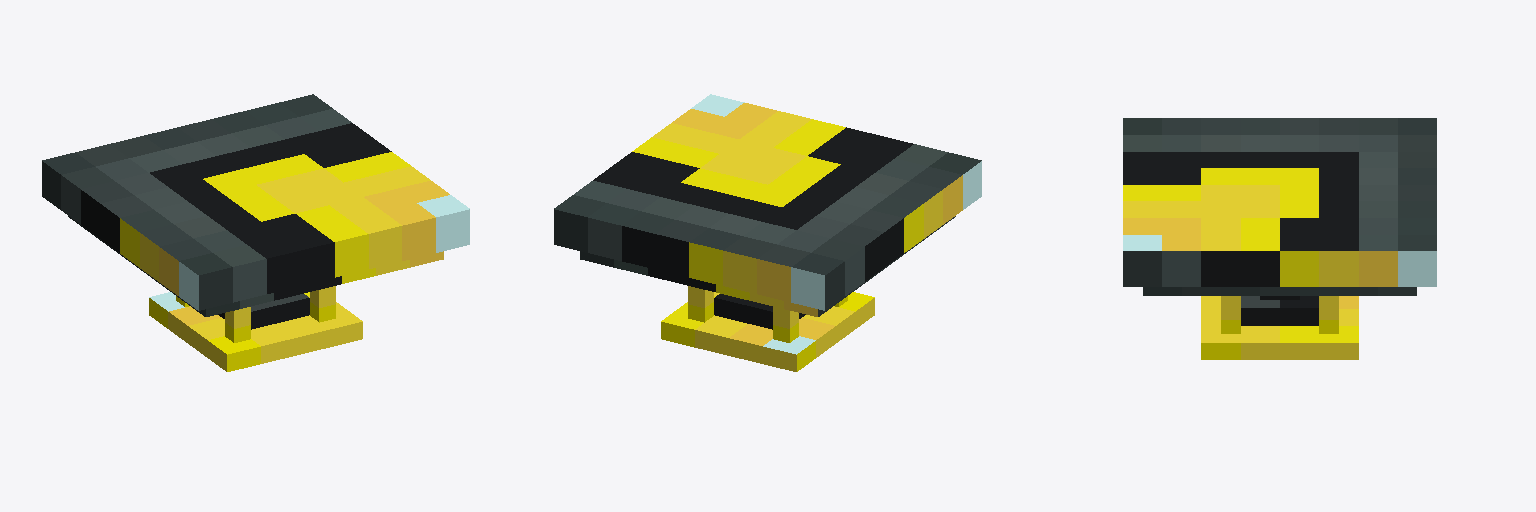
The picture shows the model from 3 angles: view 1: azimuth 30°, elevation 25°; view 2: azimuth 150°, elevation 25°; view 3: azimuth 270°, elevation 25°; orthographic projection.
Visible parts, largest first — view 1: solarPanel, solarPanelPort, solarPanelBottom, solarPanelPipeBase, solarPanelRod4, solarPanelRod3; view 2: solarPanel, solarPanelPort, solarPanelBottom, solarPanelPipeBase, solarPanelRod3, solarPanelRod2; view 3: solarPanel, solarPanelPort, solarPanelBottom, solarPanelPipeBase, solarPanelRod3, solarPanelRod4.
Boxes of the visible parts, box(x1,y1,x2,y2) form: solarPanel: box(42, 94, 469, 310); solarPanelPort: box(149, 292, 362, 371); solarPanelBottom: box(68, 216, 443, 316); solarPanelPipeBase: box(218, 294, 309, 329); solarPanelRod4: box(310, 286, 335, 322); solarPanelRod3: box(225, 307, 250, 342); solarPanel: box(554, 94, 981, 310); solarPanelPort: box(661, 292, 874, 371); solarPanelBottom: box(580, 216, 955, 316); solarPanelPipeBase: box(714, 294, 805, 329); solarPanelRod3: box(688, 286, 847, 322); solarPanelRod2: box(773, 307, 798, 342); solarPanel: box(1123, 118, 1436, 286); solarPanelPort: box(1201, 296, 1358, 359); solarPanelBottom: box(1143, 287, 1416, 295); solarPanelPipeBase: box(1241, 296, 1318, 325); solarPanelRod3: box(1319, 296, 1338, 333); solarPanelRod4: box(1221, 296, 1240, 333).
Size of the model in its own units: 1 by 0.5 by 1.
Materials: 1 (1 with a texture image).